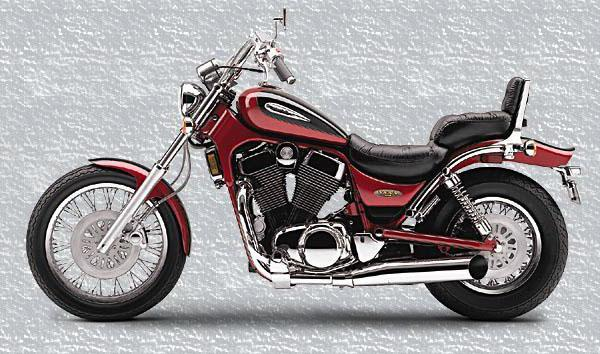motorcycle: (18, 10, 586, 337)
